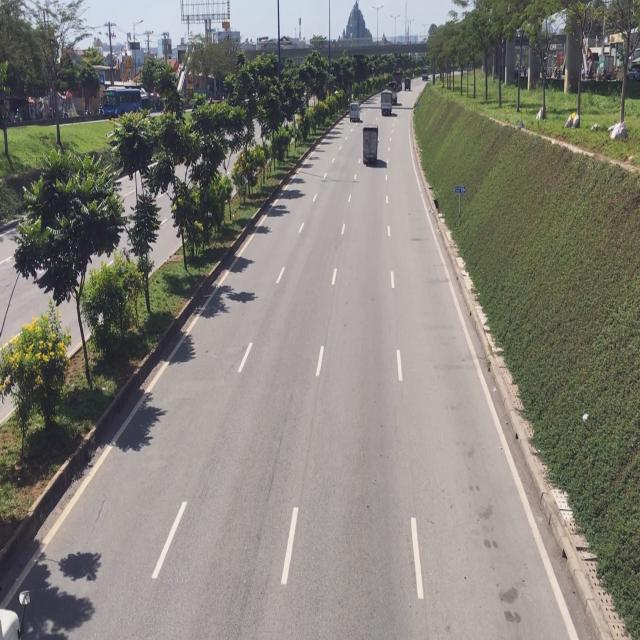truck: (361, 121, 379, 168)
